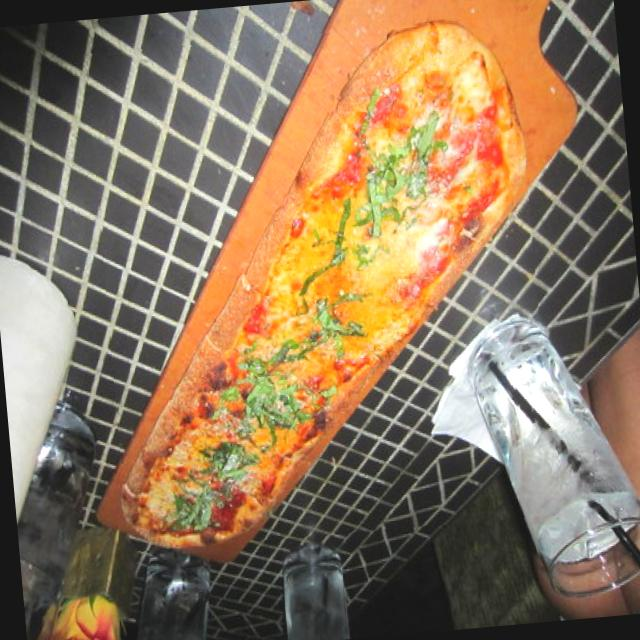pizza: (124, 22, 524, 547)
